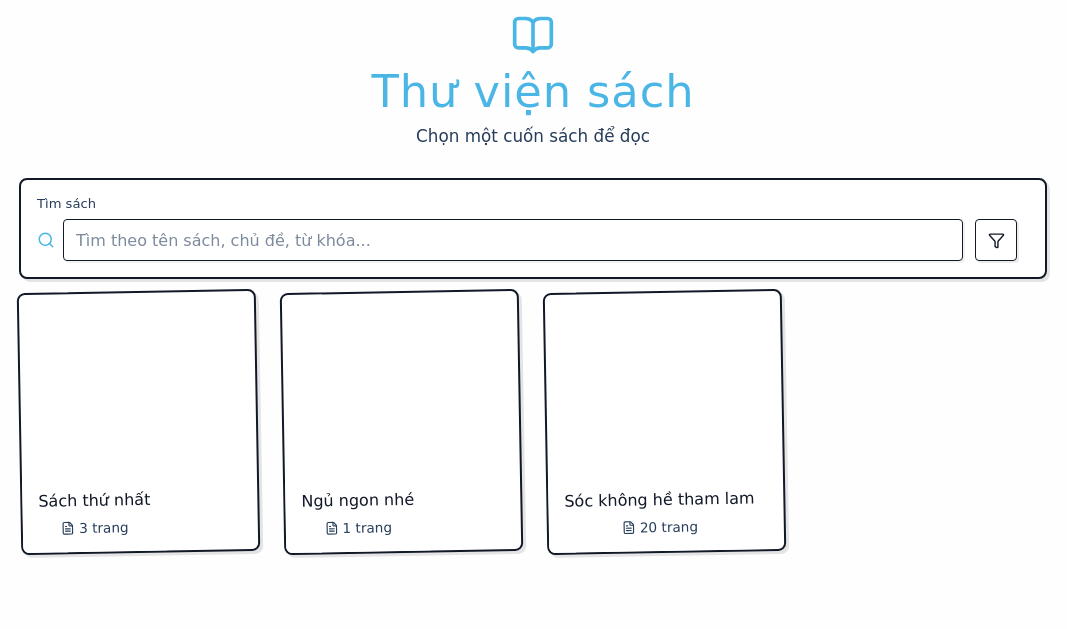
Test: BookListPage › matches a title query without requiring diacritics
In the search field labelled "Tìm sách": (513, 240) [63, 219, 963, 261], type "ngu ngon"
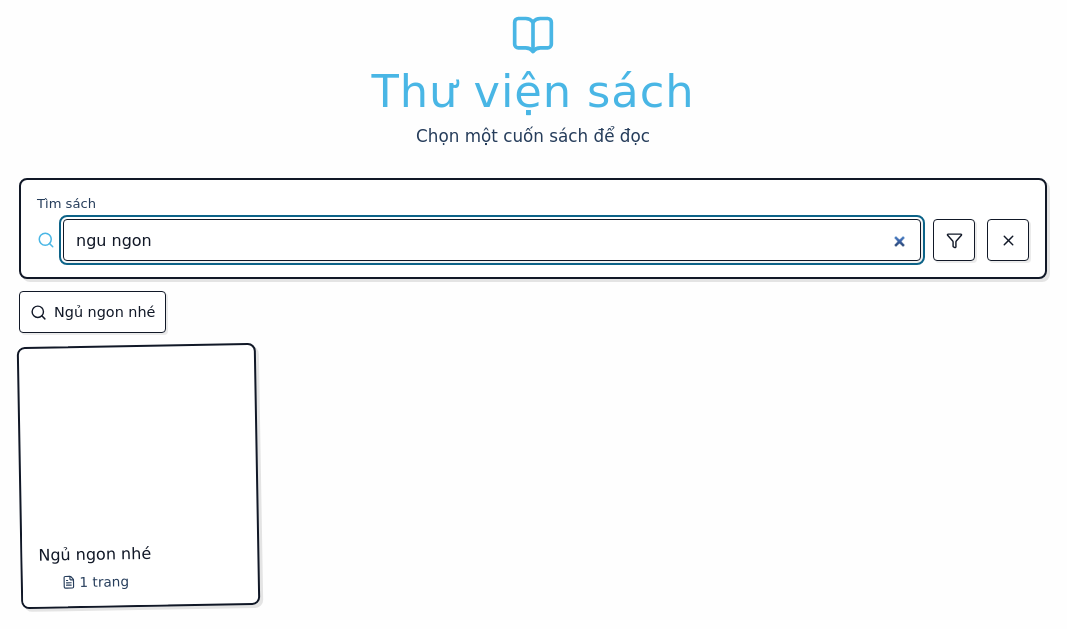
Expected: the text "Ngủ ngon nhé" is shown, [38, 543, 151, 566]
Now the button "Sách thứ nhất" is gone
Now the button "Sóc không hề tham lam" is gone
